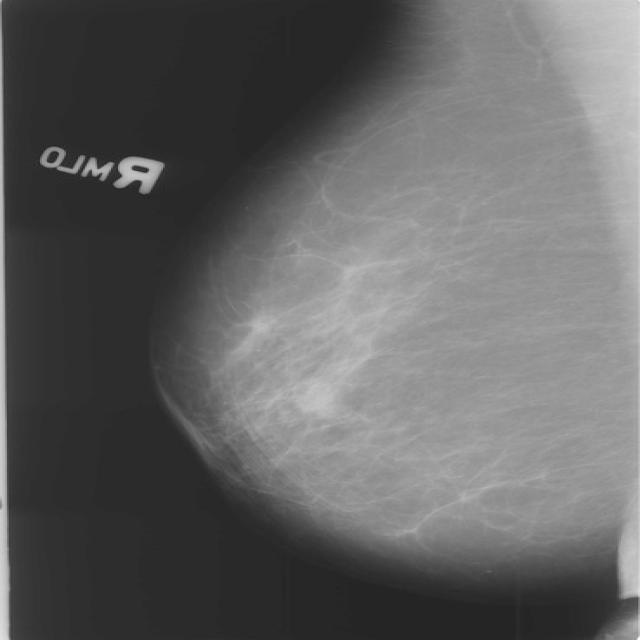tumour: (292, 382, 336, 418)
